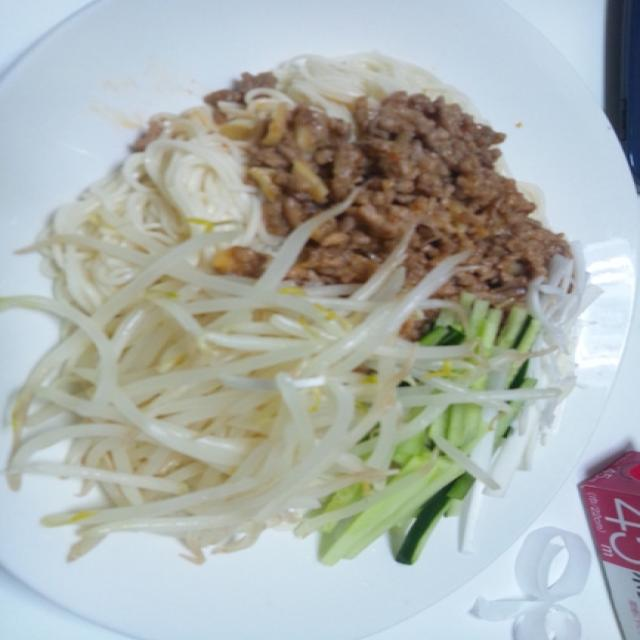面条主食: (8, 8, 620, 618)
